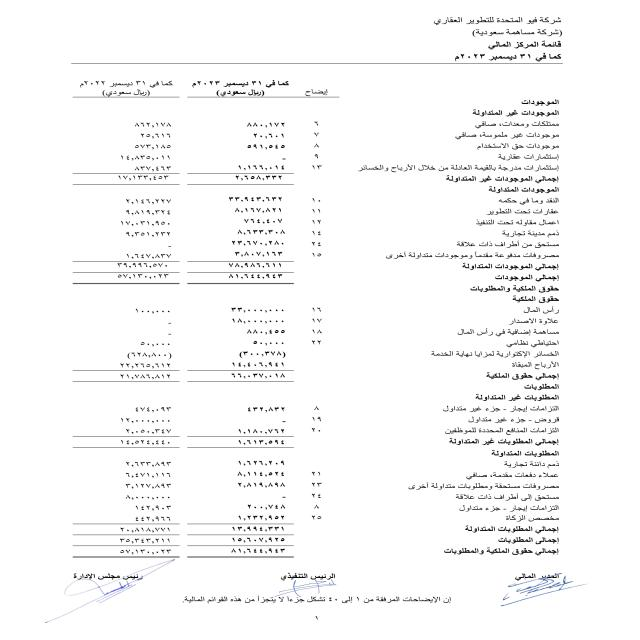financial_sheets: (481, 39, 578, 53)
table: (46, 66, 348, 572)
